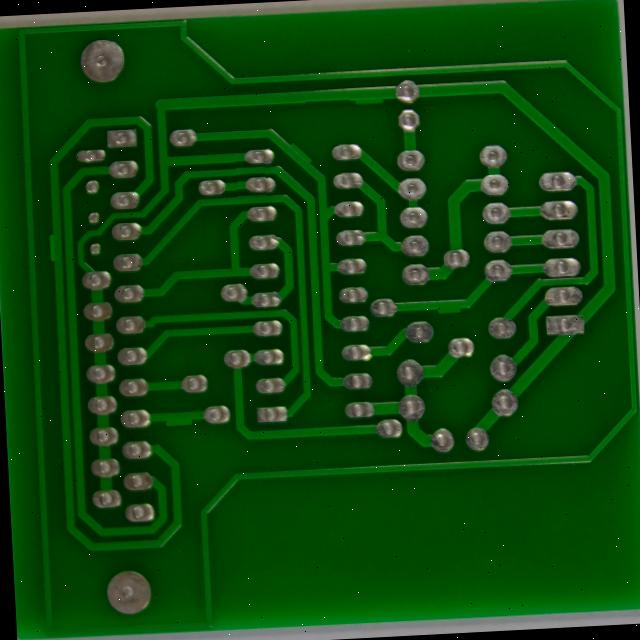spur: (304, 96, 350, 130), (234, 158, 266, 198), (88, 474, 129, 503), (401, 344, 439, 374)
